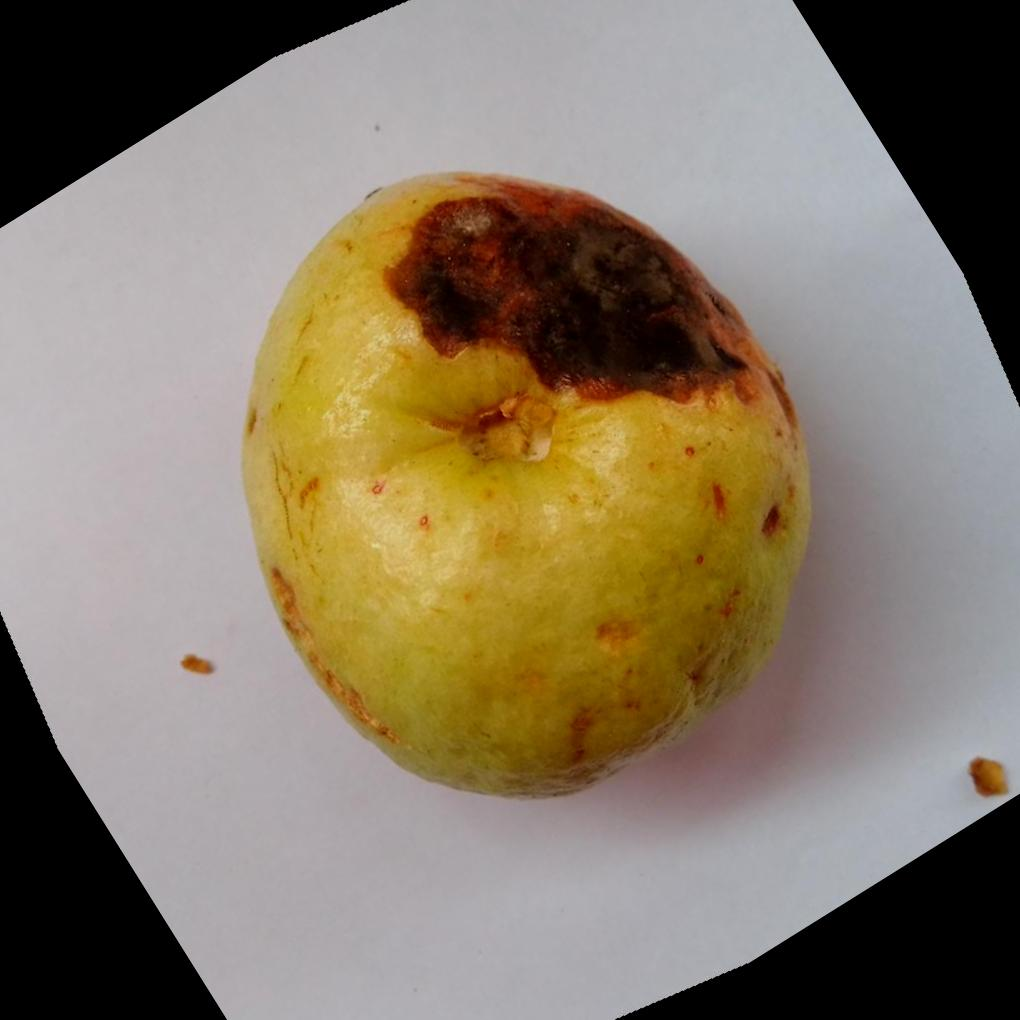FreshOrange: (239, 170, 815, 804)
